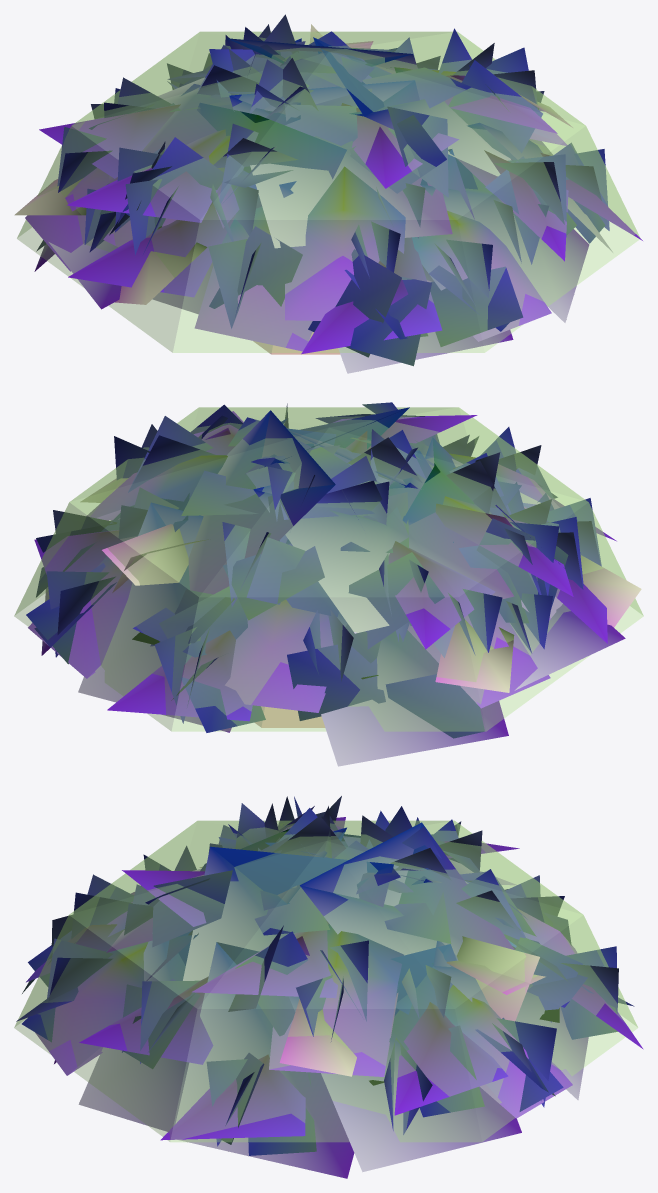
The model's file is tro_bush_small.dae.
3 views of the same model, one above another, from view 1: azimuth 30°, elevation 25°; view 2: azimuth 150°, elevation 25°; view 3: azimuth 270°, elevation 25° (orthographic).
Visible parts, largest first — view 1: Colmesh-1, tree_oak_bush_a550, tree_oak_bush_a250; view 2: Colmesh-1, tree_oak_bush_a550, tree_oak_bush_a250; view 3: Colmesh-1, tree_oak_bush_a550, tree_oak_bush_a250.
Boxes of the visible parts, x1,y1,x2,y2 form: Colmesh-1: [17, 31, 639, 354]; tree_oak_bush_a550: [25, 14, 642, 373]; tree_oak_bush_a250: [14, 24, 605, 366]; Colmesh-1: [14, 407, 643, 731]; tree_oak_bush_a550: [28, 403, 625, 766]; tree_oak_bush_a250: [26, 402, 641, 738]; Colmesh-1: [14, 820, 637, 1141]; tree_oak_bush_a550: [26, 796, 643, 1178]; tree_oak_bush_a250: [16, 806, 634, 1155].
Size of the model in its own units: 3.71 by 3.82 by 1.74.
